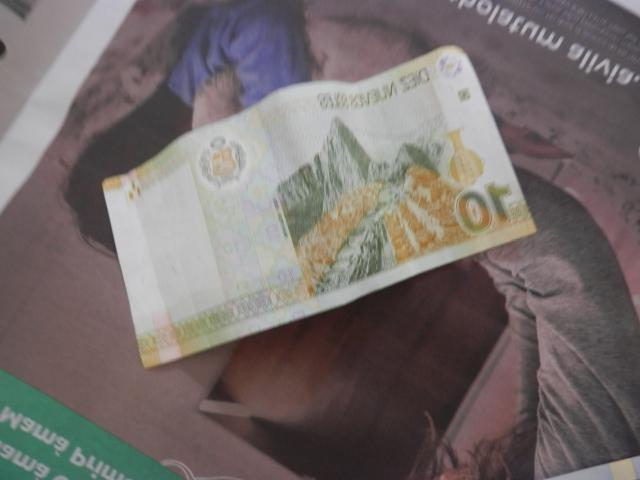B10: (105, 47, 536, 364)
